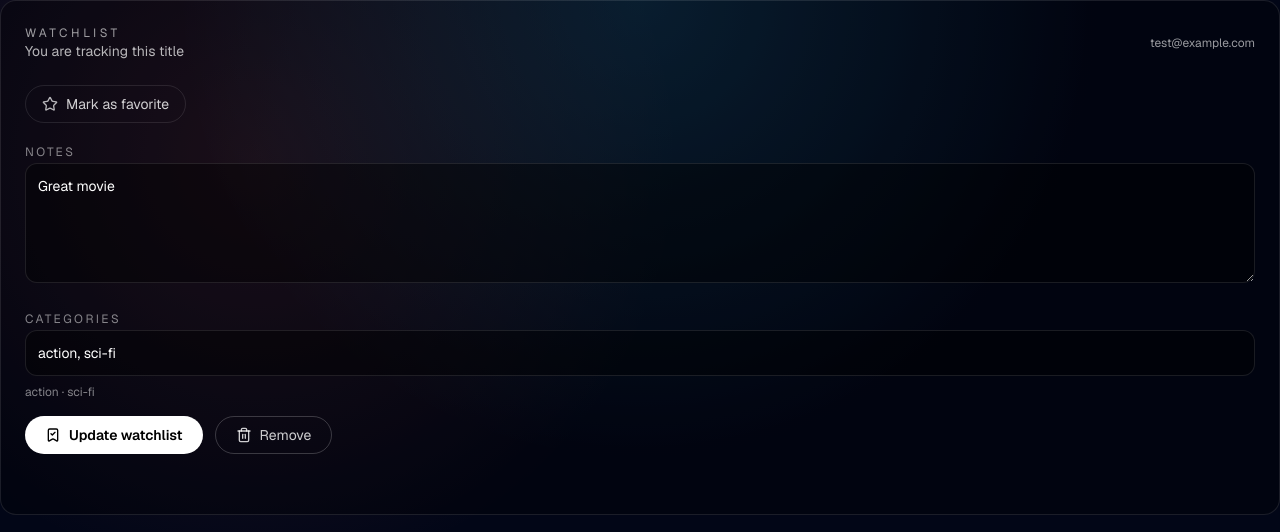
WatchlistPanel › favorite toggle › should handle favorite toggle error
Click the button "Mark as favorite" at (106, 104), box [25,85,186,123]
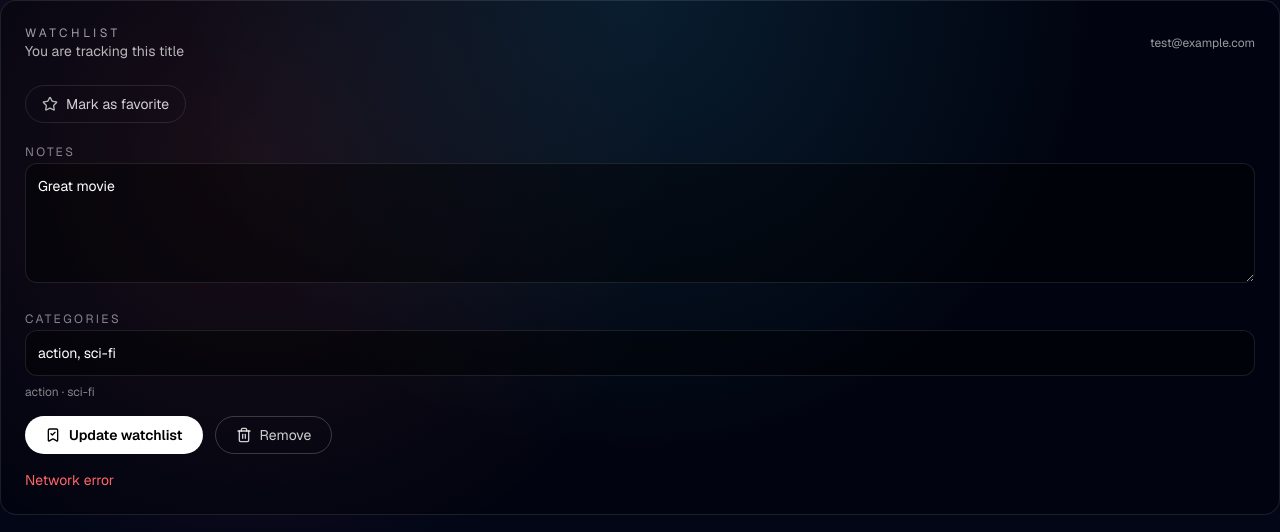
Check: the text "Network error" is shown, box [25,471,114,489]
